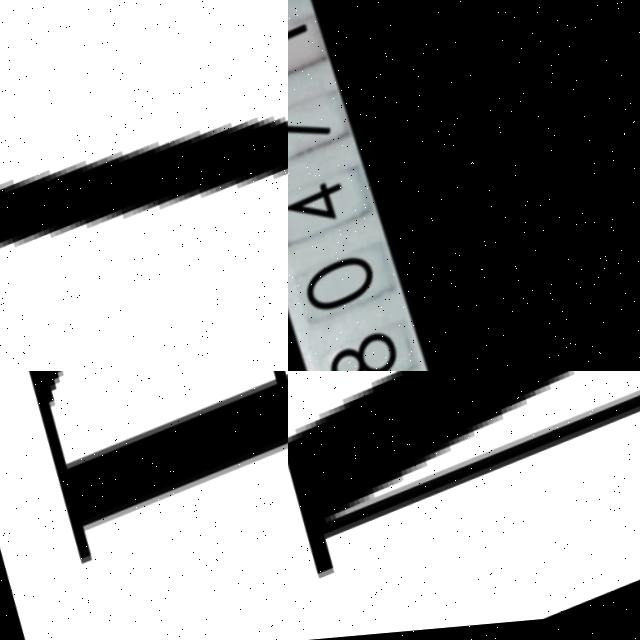0: (291, 248, 396, 335)
1: (288, 16, 324, 97)
4: (288, 175, 365, 254)
7: (288, 96, 349, 179)
8: (317, 327, 418, 371)
E: (33, 371, 288, 565)
J: (0, 0, 288, 371)
M: (288, 371, 640, 621)
